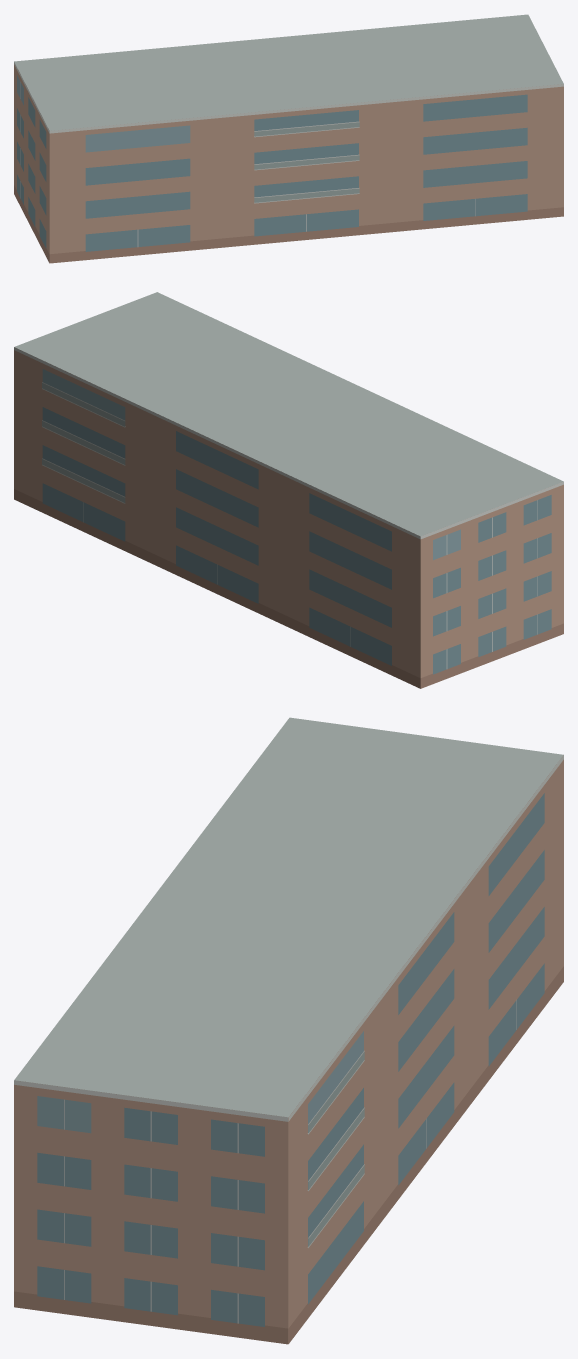
File: residential-bfc42752-f41e-406a-9f39-2b8f3f449d42.glb
3 renders of one model, top to bottom at view 1: azimuth 30°, elevation 25°; view 2: azimuth 150°, elevation 25°; view 3: azimuth 270°, elevation 25°, orthographic. The views are drawn at different scales.
Visible parts, largest first — view 1: residential-bfc42752-f41e-406a-9f39-2b8f3f449d42.tmp; view 2: residential-bfc42752-f41e-406a-9f39-2b8f3f449d42.tmp; view 3: residential-bfc42752-f41e-406a-9f39-2b8f3f449d42.tmp.
Boxes of the visible parts, bbox=[...] form: residential-bfc42752-f41e-406a-9f39-2b8f3f449d42.tmp: bbox=[14, 14, 563, 263]; residential-bfc42752-f41e-406a-9f39-2b8f3f449d42.tmp: bbox=[14, 292, 563, 688]; residential-bfc42752-f41e-406a-9f39-2b8f3f449d42.tmp: bbox=[14, 717, 563, 1344].
Size of the model in its own units: 46.09 by 12.2 by 26.78.
